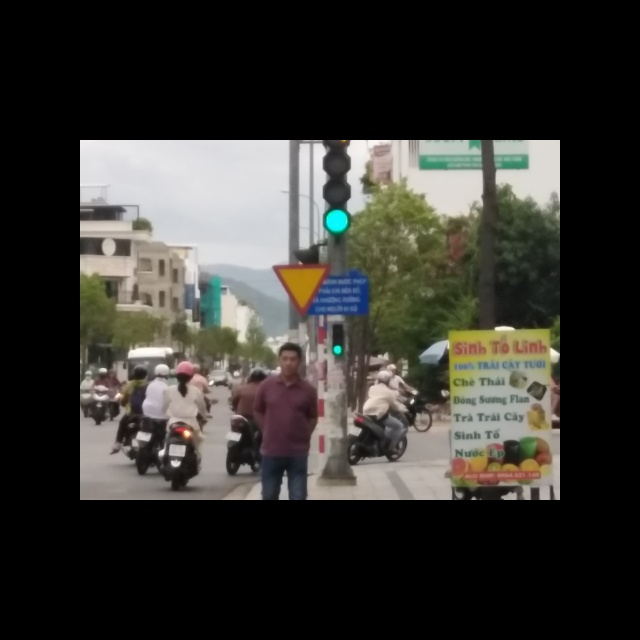Giao nhau với đường ưu tiên: (271, 264, 332, 321)
Đèn xanh: (324, 207, 350, 234)
